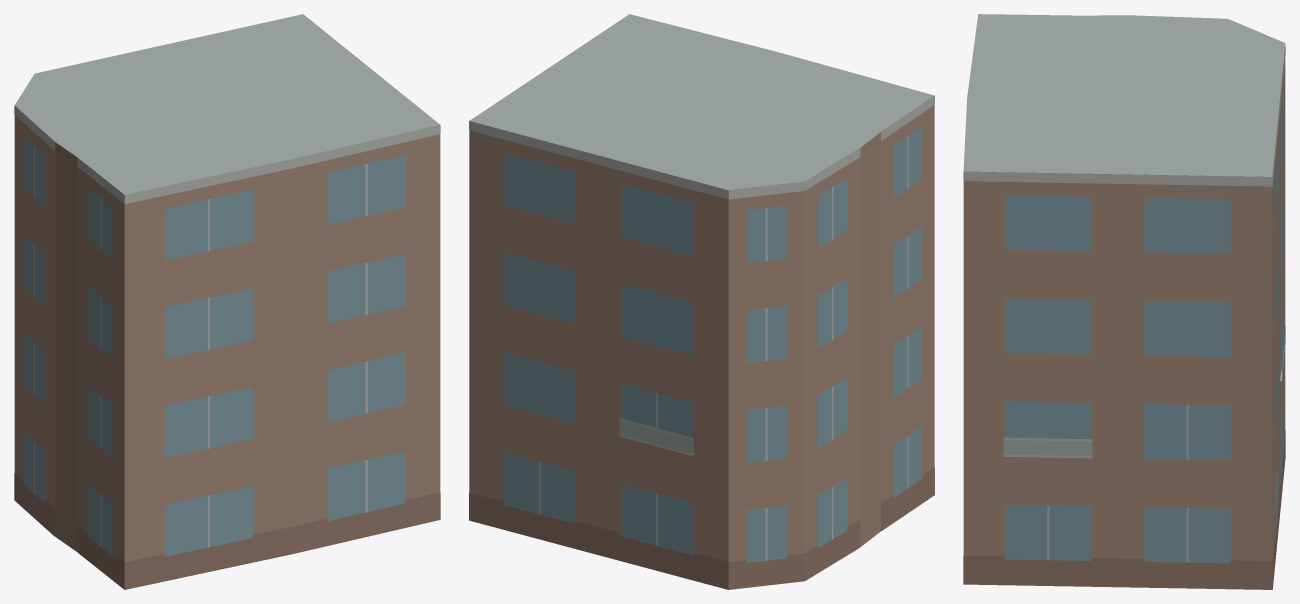
Rendered from survey-upis-33005374.glb.
3 renders of one model, left to right at view 1: azimuth 30°, elevation 25°; view 2: azimuth 150°, elevation 25°; view 3: azimuth 270°, elevation 25°, orthographic. The views are drawn at different scales.
Parts seen in each view (by area): view 1: survey-upis-33005374.tmp; view 2: survey-upis-33005374.tmp; view 3: survey-upis-33005374.tmp.
Boxes of the visible parts, x1,y1,x2,y2 form: survey-upis-33005374.tmp: [14, 14, 440, 589]; survey-upis-33005374.tmp: [469, 14, 934, 589]; survey-upis-33005374.tmp: [963, 14, 1285, 589].
Bounding box in the file's own units: 8.85 × 10.45 × 7.4.
